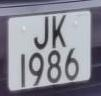1: (18, 50, 29, 92)
6: (64, 47, 82, 85)
8: (45, 47, 64, 87)
9: (27, 51, 46, 89)
J: (31, 14, 51, 54)
K: (51, 12, 69, 54)
